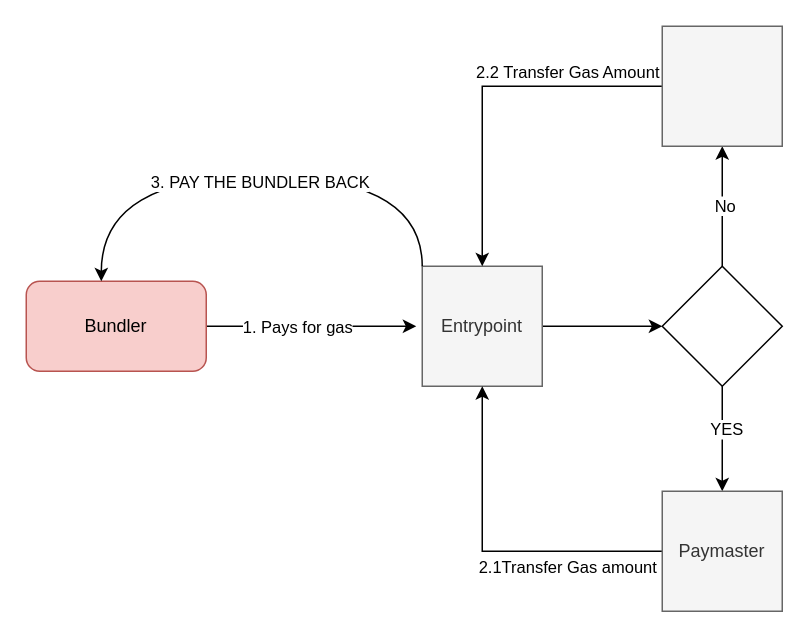
This 809x638 diagram has some shape labels left out. Each missing label, with the box of its shape:
Paymaster?: (661, 265, 782, 386)
Smart Account: (661, 25, 782, 146)
